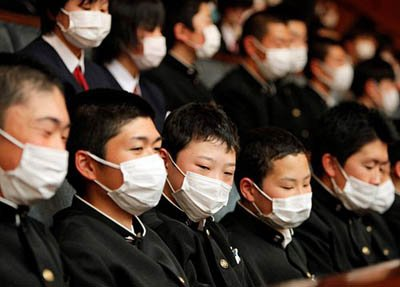mask: (4, 134, 68, 208), (105, 142, 173, 207), (179, 154, 234, 224), (263, 182, 316, 238), (258, 40, 315, 87), (61, 4, 119, 45), (345, 167, 391, 215), (132, 32, 179, 76), (195, 25, 238, 60)
